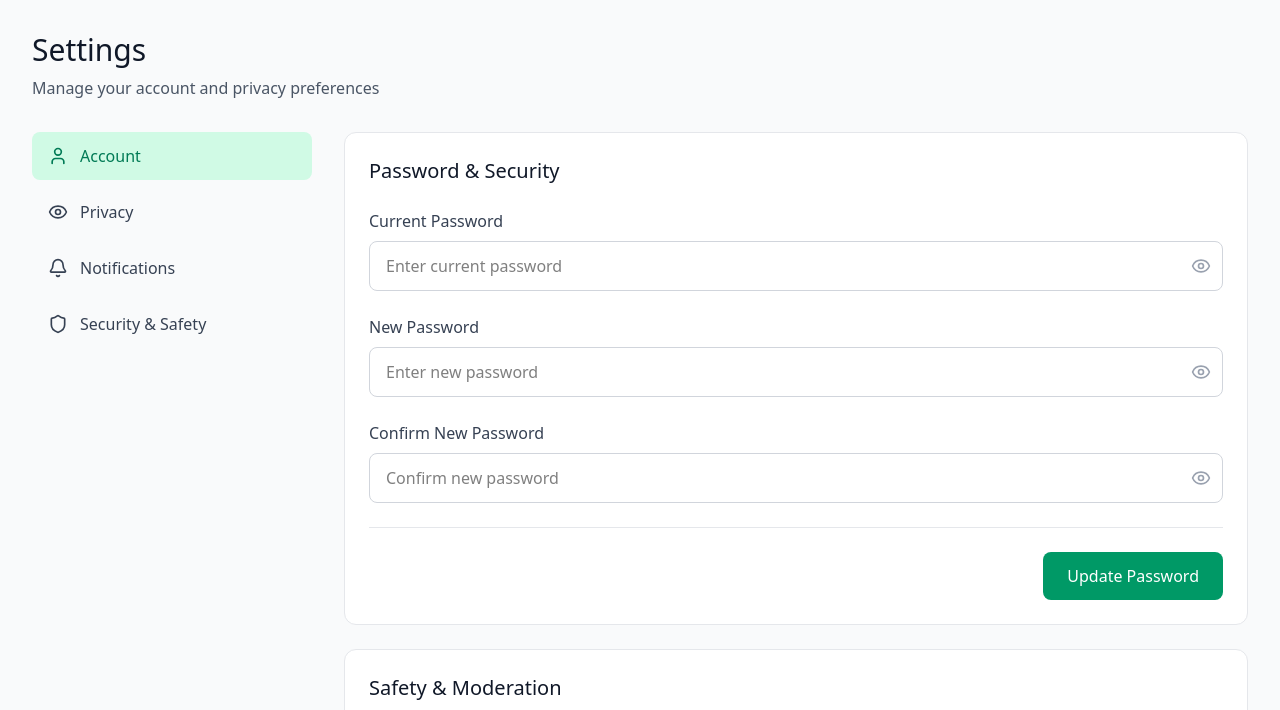
SettingsPage - Privacy Tab › shows error message when loading fails
The width and height of the screenshot is (1280, 710).
Click the button "Privacy": coordinates (107, 212) [32,188,312,236]
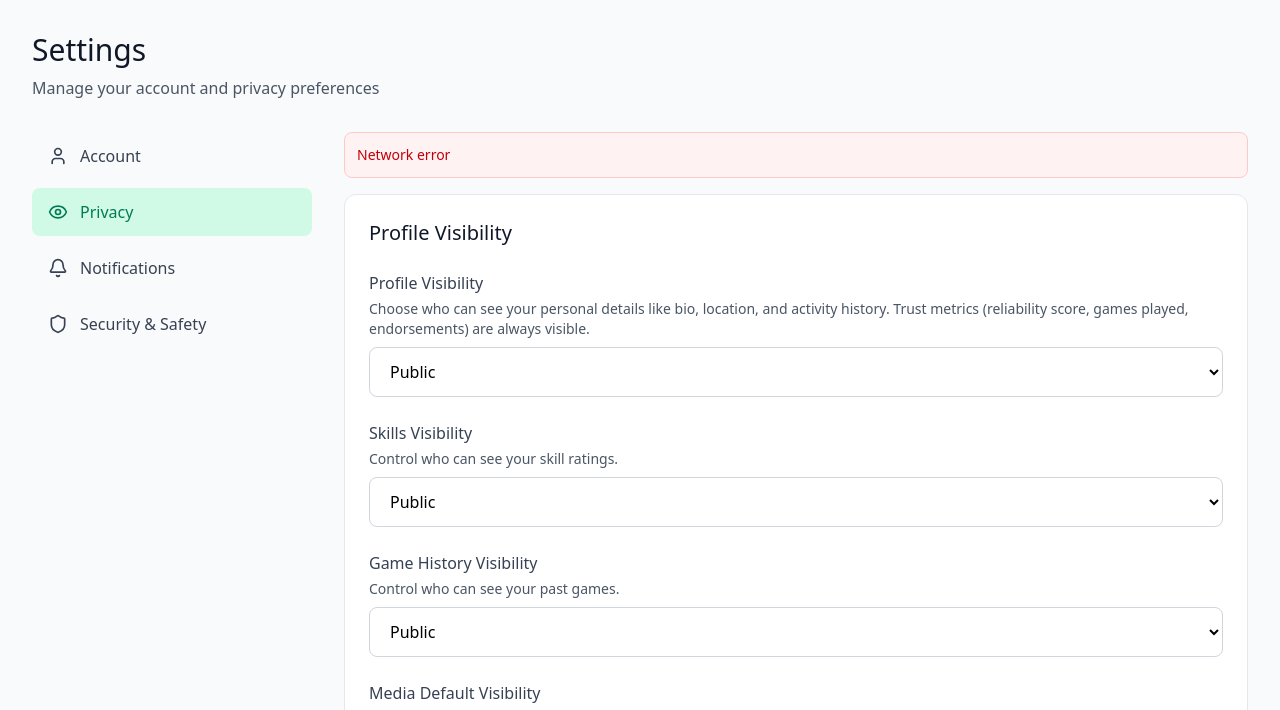
Check: the text "Network error" is shown, box [344,132,1248,178]
